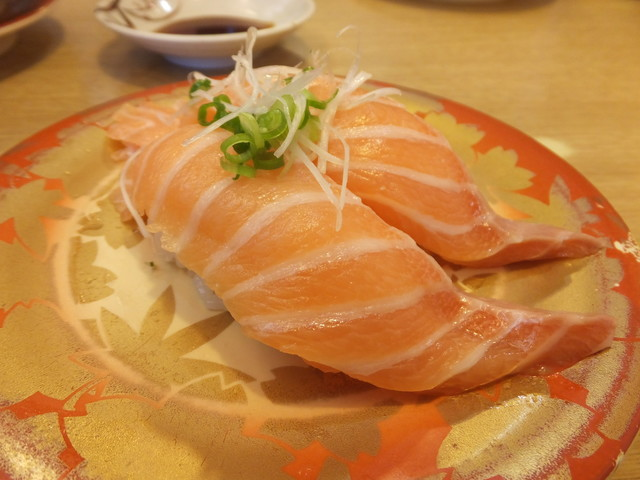salmon: (127, 80, 619, 402)
